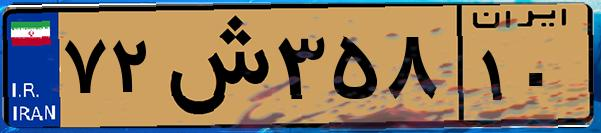0: (525, 38, 570, 115)
1: (475, 38, 525, 113)
2: (110, 28, 158, 98)
3: (270, 28, 330, 110)
5: (330, 28, 385, 110)
7: (57, 26, 110, 100)
8: (385, 28, 445, 110)
ش: (158, 12, 270, 120)
